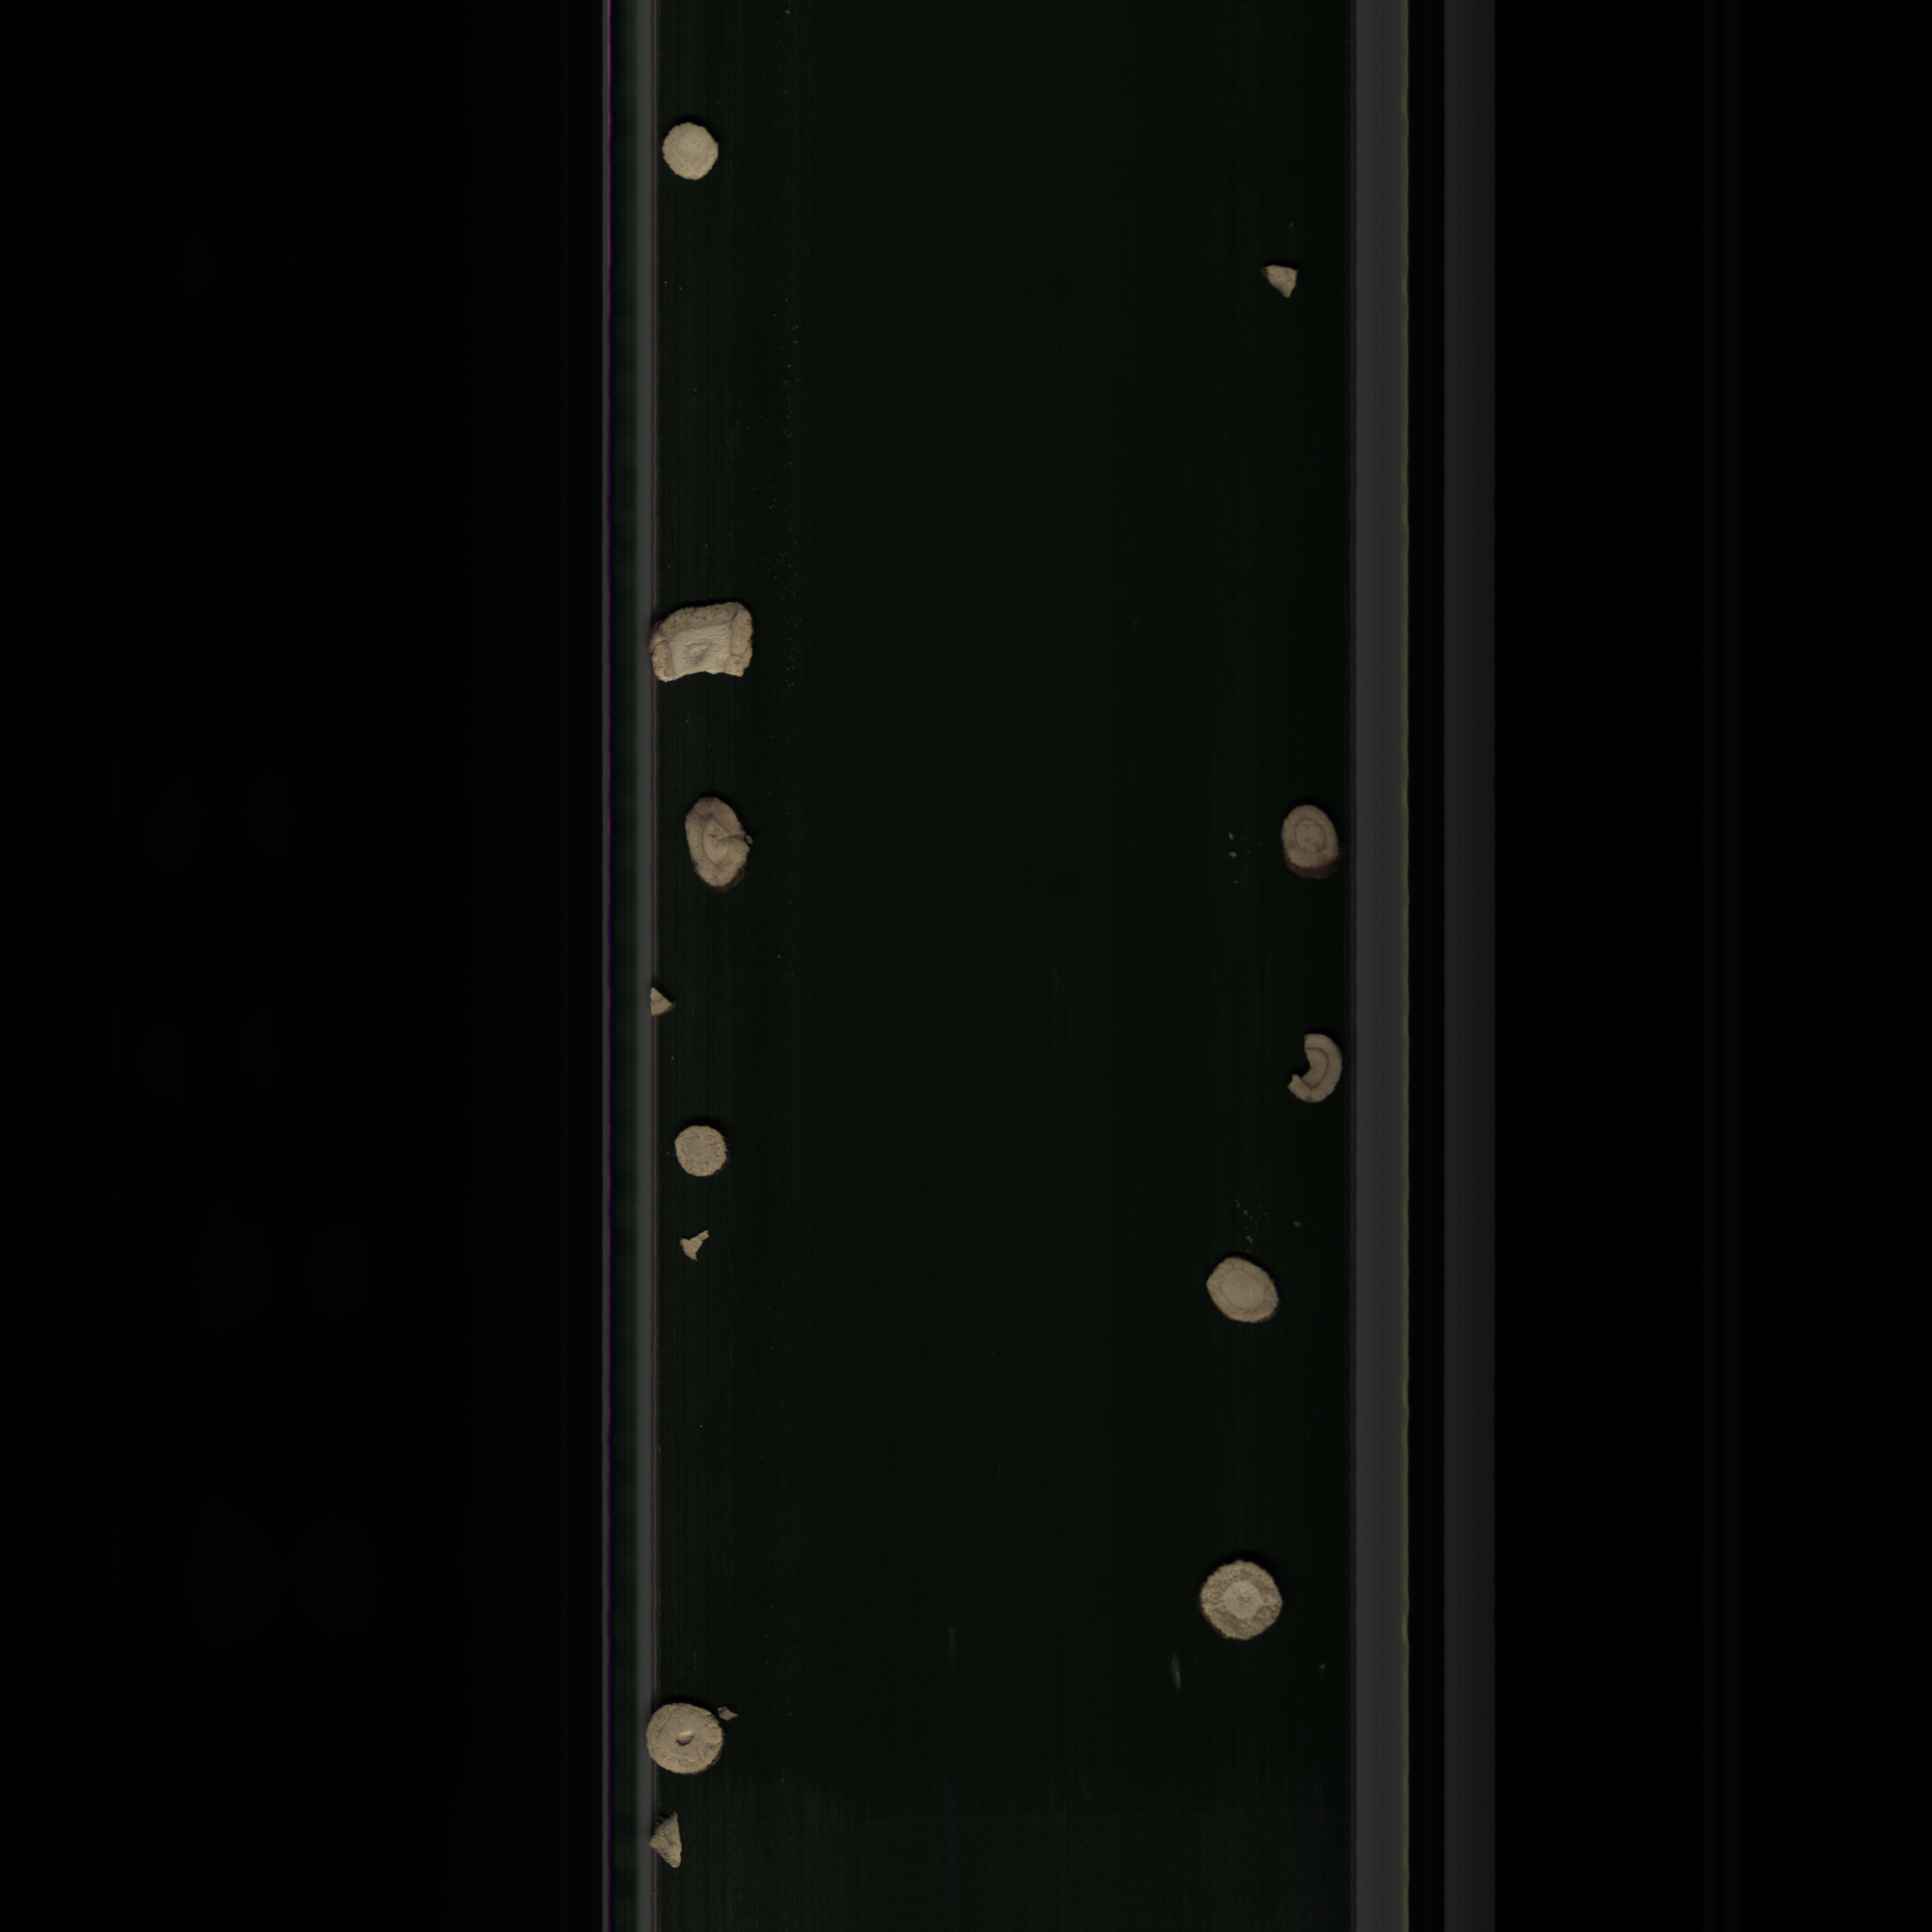debris: (642, 594, 770, 690), (637, 1803, 694, 1874), (1254, 258, 1302, 303), (676, 1224, 720, 1267), (639, 978, 681, 1021)
hole: (644, 1700, 736, 1780)
moldy: (1284, 1028, 1345, 1111)
